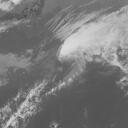cyclone: (56, 25, 106, 63)
